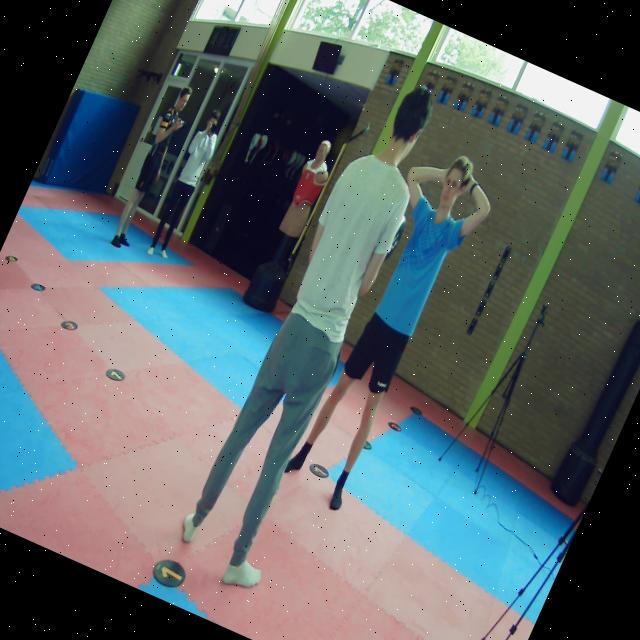paddle: (385, 214, 406, 261)
